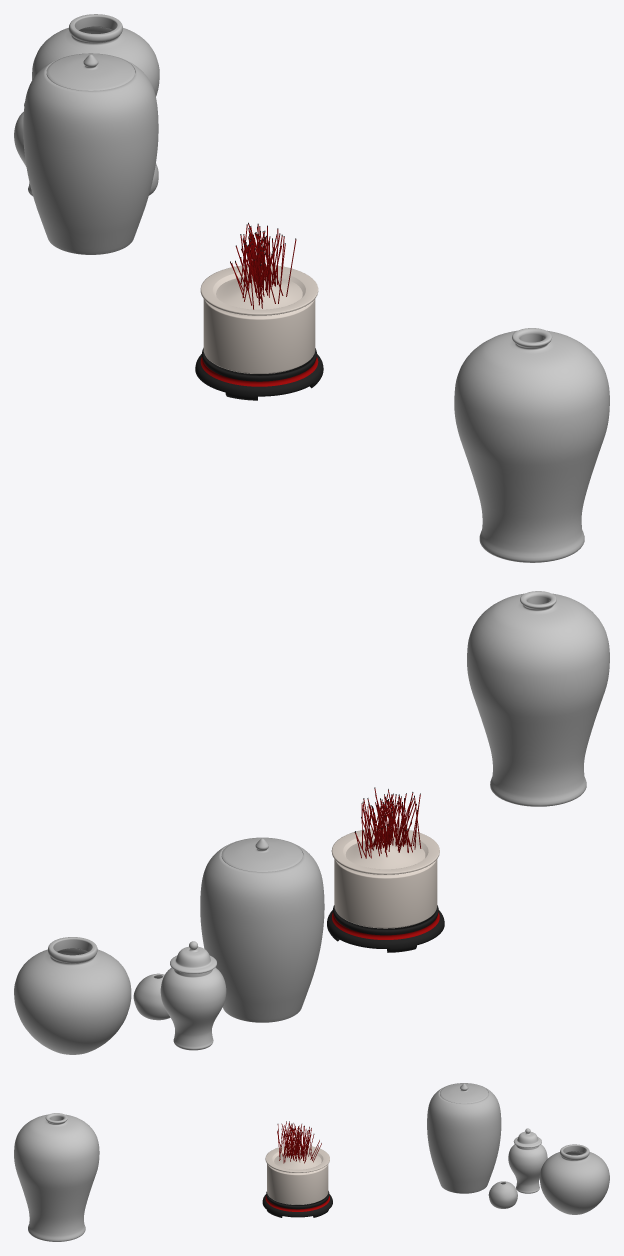
Rendered from Props vases.fbx.
The picture shows the model from 3 angles, top to bottom: view 1: azimuth 30°, elevation 25°; view 2: azimuth 150°, elevation 25°; view 3: azimuth 270°, elevation 25°; orthographic projection. The views are drawn at different scales.
Visible parts, largest first — view 1: Marbleized Ceramic Vessel_Large, Blue & White Floral Ginger Jar, Object1703282748, Blue & White Ginger Jar Round Vessel; view 2: Marbleized Ceramic Vessel_Large, Blue & White Floral Ginger Jar, Object1703282748, Blue & White Ginger Jar Round Vessel, Blue & White Ginger Jar with Lid, 12 'Urn, Ceramic Herringbone Round Vase; view 3: Marbleized Ceramic Vessel_Large, Blue & White Floral Ginger Jar, Object1703282748, Blue & White Ginger Jar Round Vessel, Blue & White Ginger Jar with Lid, 12 'Urn, Ceramic Herringbone Round Vase.
Boxes of the visible parts, <box> form: Marbleized Ceramic Vessel_Large: <box>454,328,609,562</box>; Blue & White Floral Ginger Jar: <box>23,53,158,254</box>; Object1703282748: <box>195,222,323,400</box>; Blue & White Ginger Jar Round Vessel: <box>32,14,159,96</box>; Marbleized Ceramic Vessel_Large: <box>467,591,609,806</box>; Blue & White Floral Ginger Jar: <box>200,837,324,1022</box>; Object1703282748: <box>327,787,444,952</box>; Blue & White Ginger Jar Round Vessel: <box>14,937,131,1054</box>; Blue & White Ginger Jar with Lid, 12 'Urn: <box>160,941,226,1050</box>; Ceramic Herringbone Round Vase: <box>133,973,170,1020</box>; Marbleized Ceramic Vessel_Large: <box>14,1113,99,1241</box>; Blue & White Floral Ginger Jar: <box>427,1083,501,1193</box>; Object1703282748: <box>262,1121,332,1217</box>; Blue & White Ginger Jar Round Vessel: <box>539,1144,609,1214</box>; Blue & White Ginger Jar with Lid, 12 'Urn: <box>508,1128,547,1193</box>; Ceramic Herringbone Round Vase: <box>488,1181,517,1208</box>.
Size of what is drawn, in the model's own units: 40.23 by 40.72 by 172.
